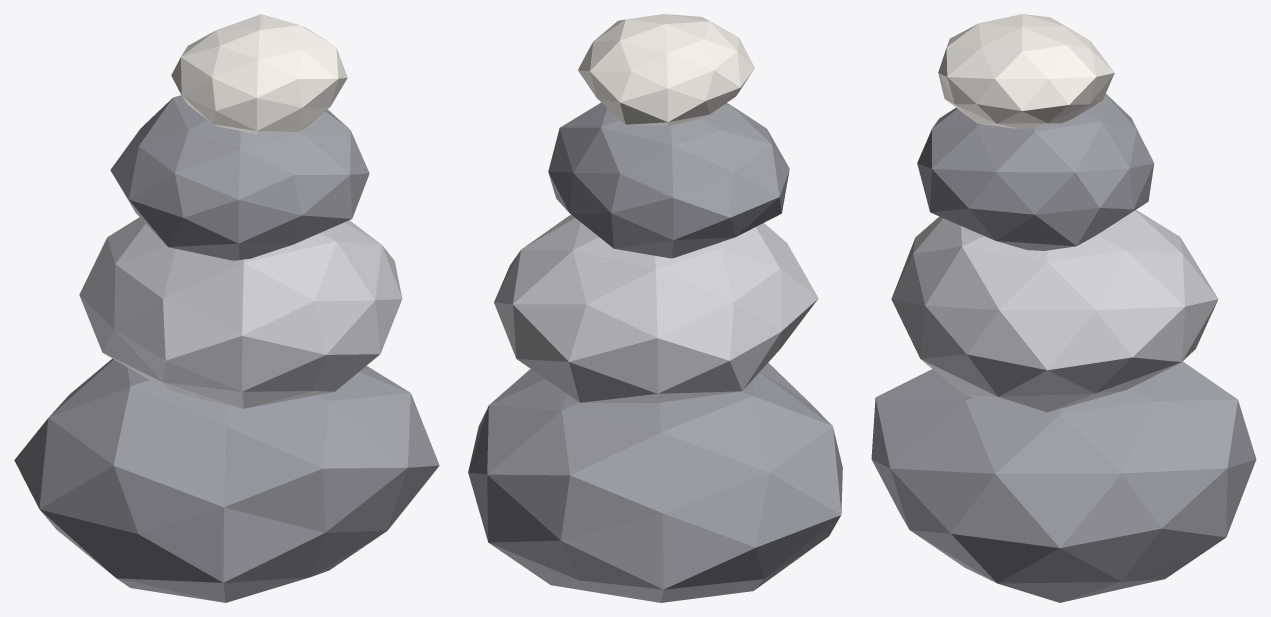
File: deco_cairn.obj
3 views of the same model, side by side, from view 1: azimuth 30°, elevation 25°; view 2: azimuth 150°, elevation 25°; view 3: azimuth 270°, elevation 25° (orthographic). The views are drawn at different scales.
Visible parts, largest first — view 1: deco_cairn; view 2: deco_cairn; view 3: deco_cairn.
Part boxes in pixels (box(x1,y1,x2,y2)): deco_cairn: box(14, 14, 439, 602); deco_cairn: box(468, 14, 842, 602); deco_cairn: box(871, 14, 1256, 602).
Bounding box in the file's own units: 0.0339 × 0.0486 × 0.0306.
1 material, 1 textured.
